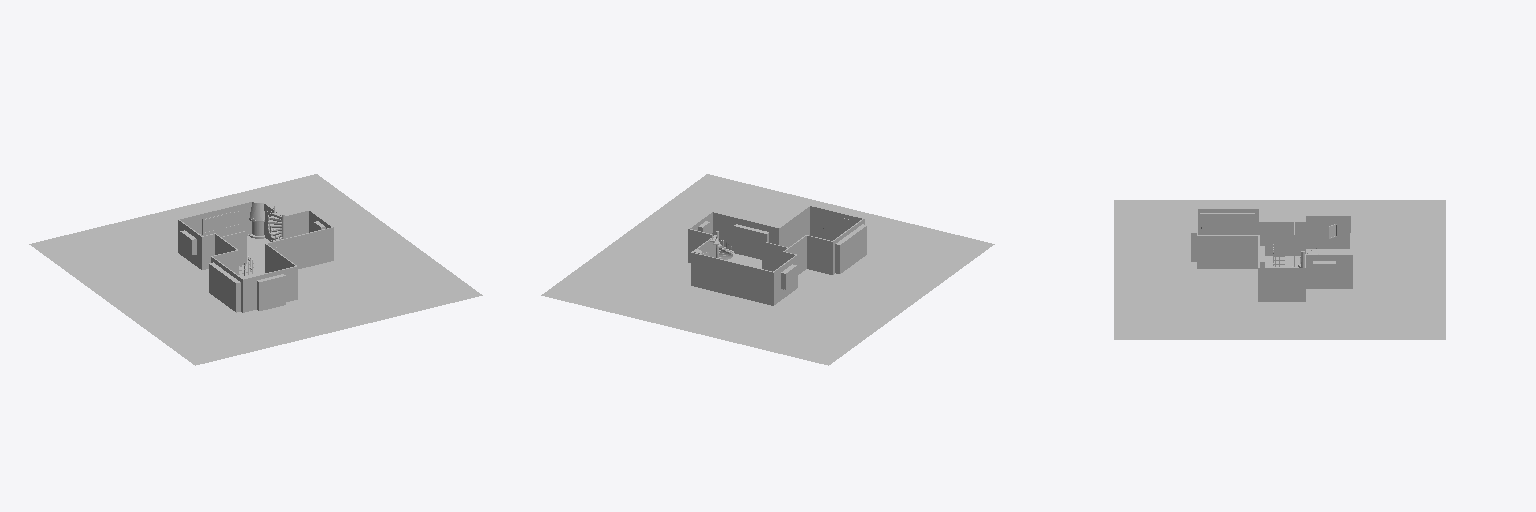
The model's file is House w. pool.obj.
3 renders of one model, left to right at view 1: azimuth 30°, elevation 25°; view 2: azimuth 150°, elevation 25°; view 3: azimuth 270°, elevation 25°, orthographic.
Parts seen in each view (by area): view 1: Plane.003, Room, CTRL_Hole.003, Floor, Plane.004; view 2: Plane.003, Room, CTRL_Hole.003, CTRL_Hole.004; view 3: Plane.003, Room, CTRL_Hole.003, Floor.
Part boxes in pixels (left/top/right/bottom): Plane.003: left=29, top=174, right=482, bottom=365; Room: left=178, top=199, right=333, bottom=312; CTRL_Hole.003: left=209, top=262, right=240, bottom=312; Floor: left=239, top=236, right=269, bottom=278; Plane.004: left=202, top=210, right=239, bottom=234; Plane.003: left=541, top=174, right=994, bottom=365; Room: left=688, top=205, right=864, bottom=305; CTRL_Hole.003: left=836, top=224, right=866, bottom=273; CTRL_Hole.004: left=734, top=224, right=768, bottom=259; Plane.003: left=1114, top=200, right=1445, bottom=339; Room: left=1197, top=209, right=1352, bottom=301; CTRL_Hole.003: left=1201, top=214, right=1254, bottom=234; Floor: left=1265, top=250, right=1349, bottom=299.
Size of the model in its own units: 21.63 by 3.98 by 21.63.